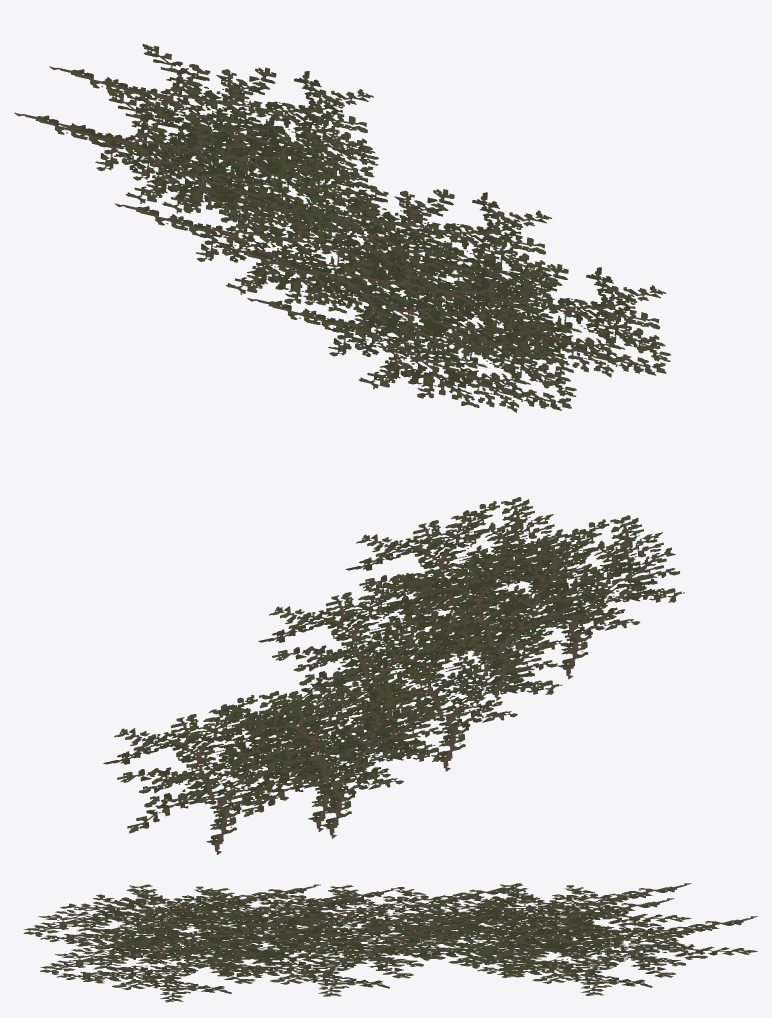
Rendered from FloorBush.fbx.
3 views of the same model, one above another, from view 1: azimuth 30°, elevation 25°; view 2: azimuth 150°, elevation 25°; view 3: azimuth 270°, elevation 25° (orthographic). The views are drawn at different scales.
Visible parts, largest first — view 1: Plane.009; view 2: Plane.009; view 3: Plane.009.
Boxes of the visible parts, <box> form: Plane.009: <box>14,44,670,412</box>; Plane.009: <box>103,497,684,854</box>; Plane.009: <box>23,883,757,1002</box>.
Size of the model in its own units: 117 by 3.22 by 305.
